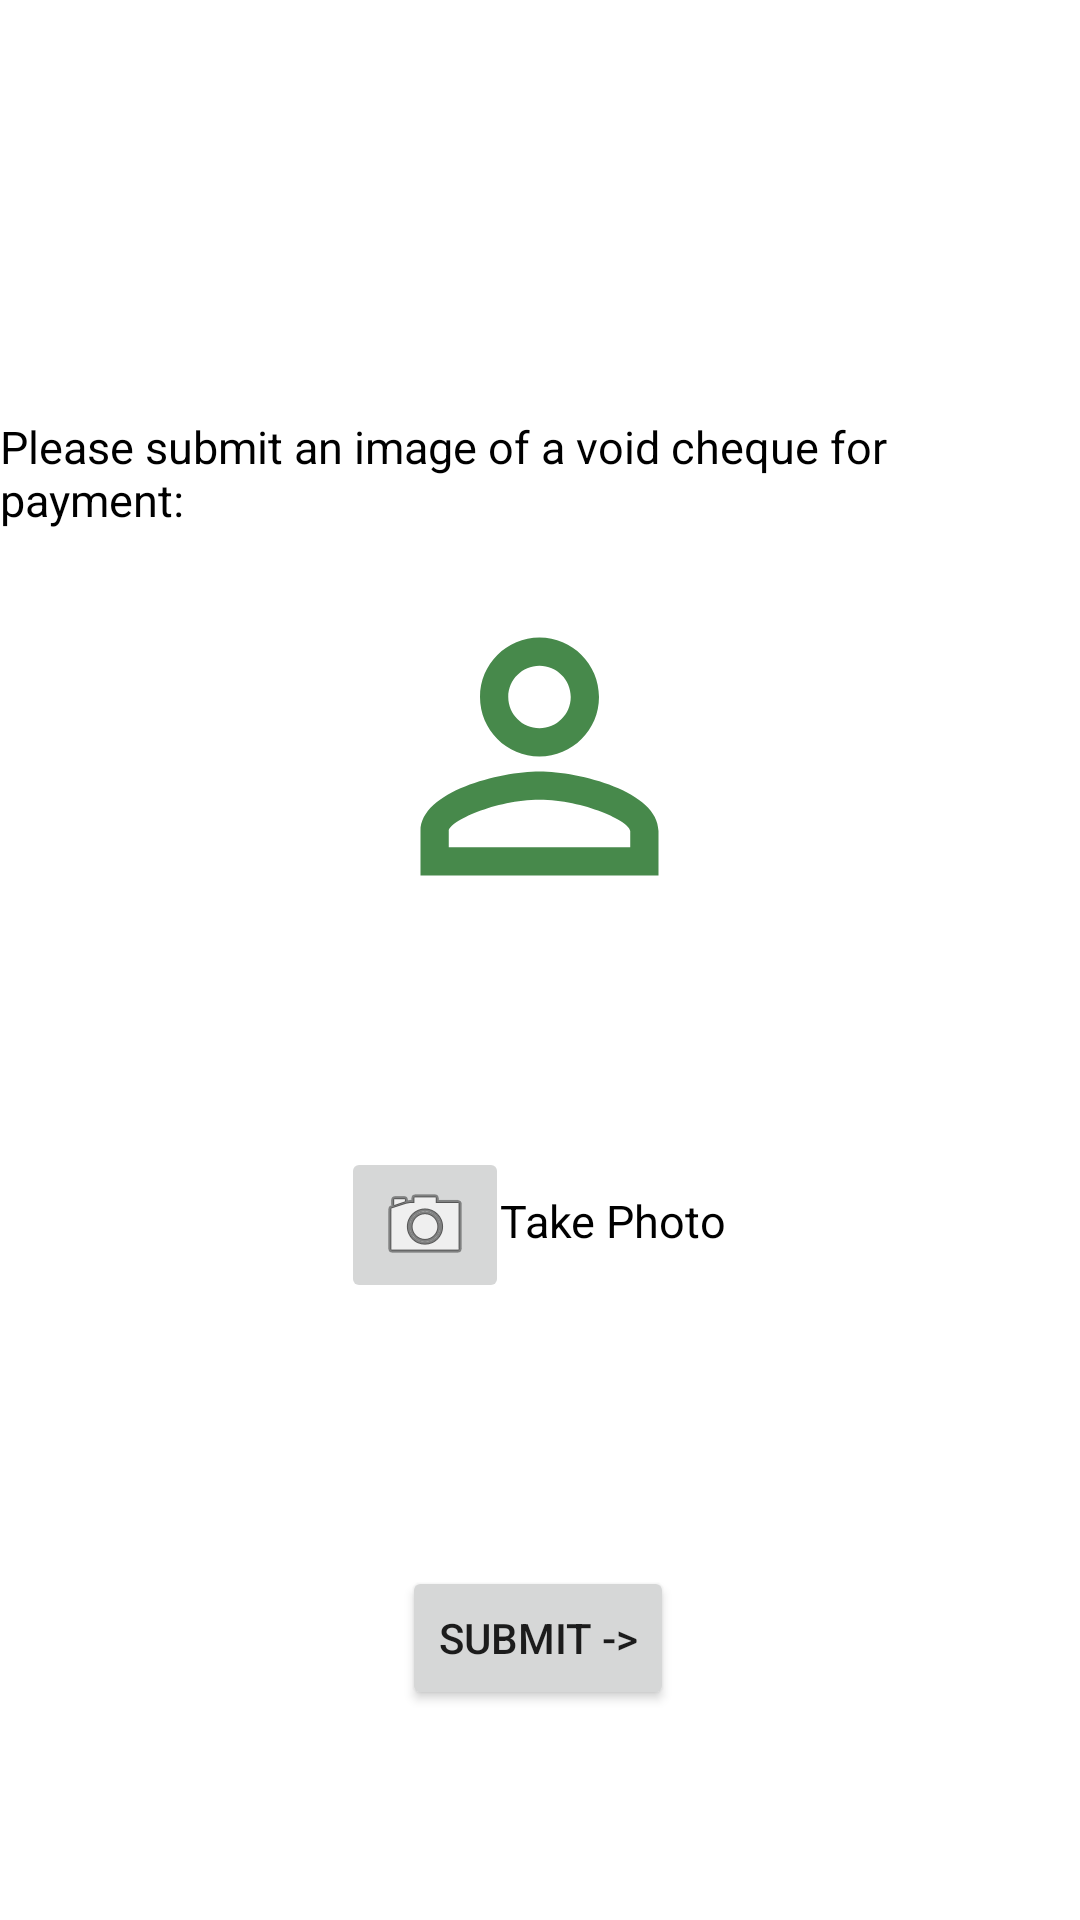

Icon click points for this 1080px×1920px phone screenshot, format (x,y):
person: (539,756)
Press to take picture of void cheque: (425,1225)
